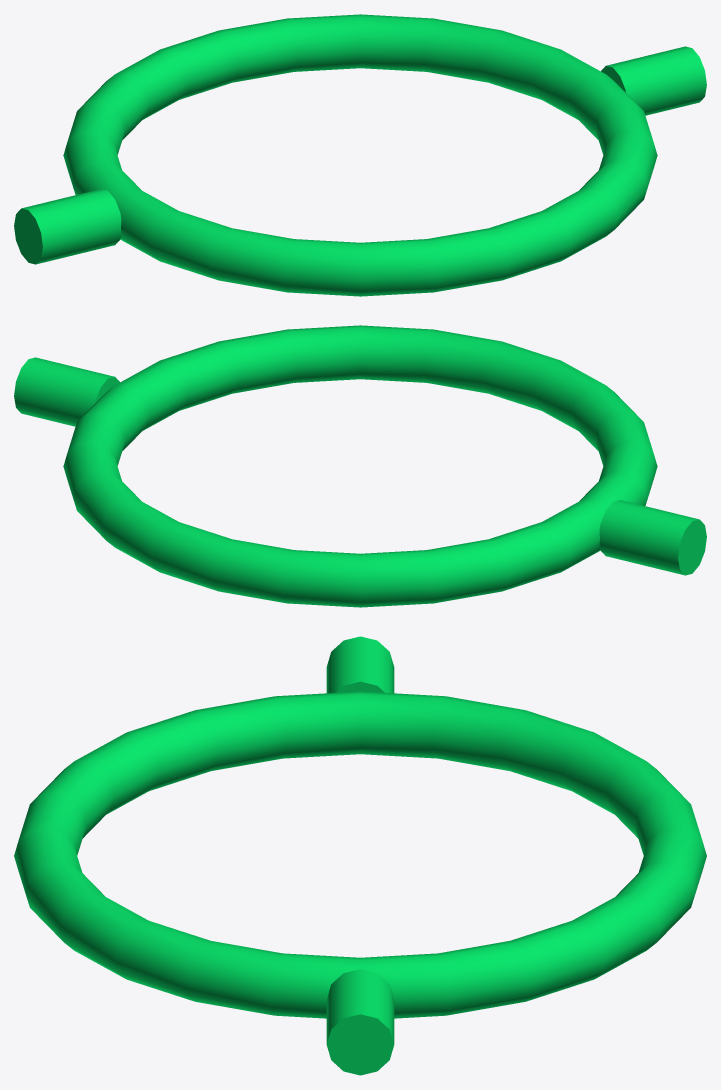
Rendered from SM_MapModel_FacilityRing2.FBX.
The picture shows the model from 3 angles, top to bottom: view 1: azimuth 30°, elevation 25°; view 2: azimuth 150°, elevation 25°; view 3: azimuth 270°, elevation 25°; orthographic projection. The views are drawn at different scales.
Parts seen in each view (by area): view 1: Torus001; view 2: Torus001; view 3: Torus001.
Boxes of the visible parts, <box> form: Torus001: <box>14,14,706,296</box>; Torus001: <box>14,325,706,607</box>; Torus001: <box>14,636,706,1075</box>.
Size of the model in its own units: 26489 by 2003 by 20530.
